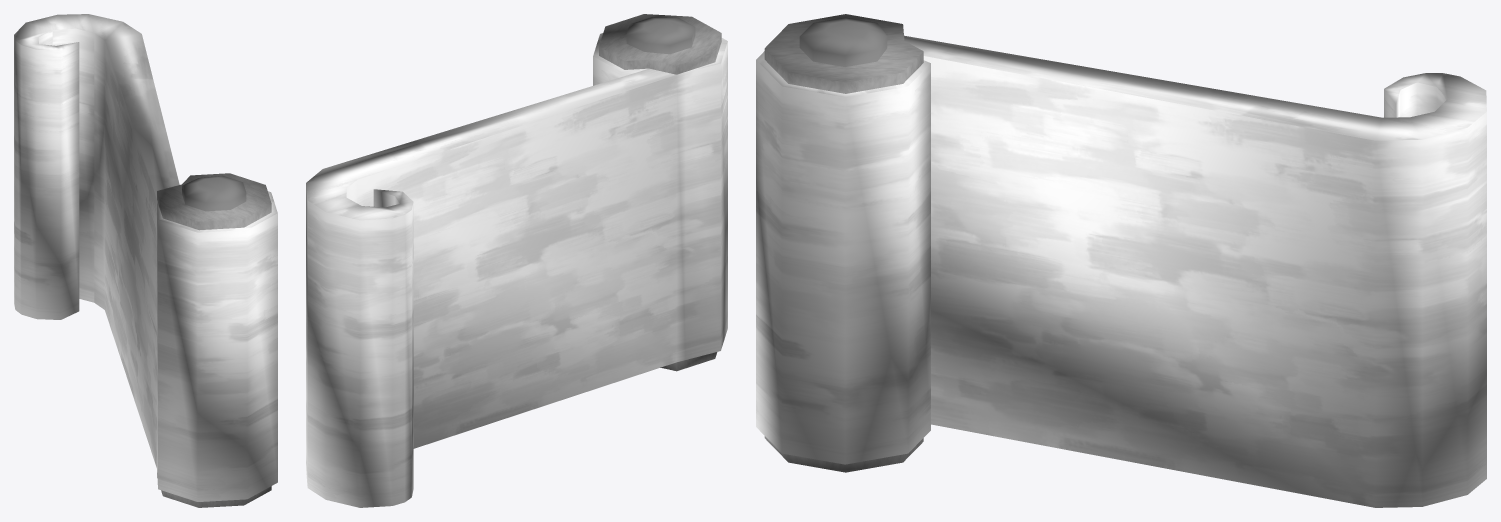
Rendered from normal_paper.fbx.
3 renders of one model, left to right at view 1: azimuth 30°, elevation 25°; view 2: azimuth 150°, elevation 25°; view 3: azimuth 270°, elevation 25°, orthographic. The views are drawn at different scales.
Visible parts, largest first — view 1: Scroll; view 2: Scroll; view 3: Scroll.
Part boxes in pixels (x1,y1,x2,y2): Scroll: (14, 14, 277, 507); Scroll: (306, 14, 727, 507); Scroll: (756, 14, 1486, 507).
Bounding box in the file's own units: 83.18 × 139 × 216.
Materials: 4 (2 with a texture image).
